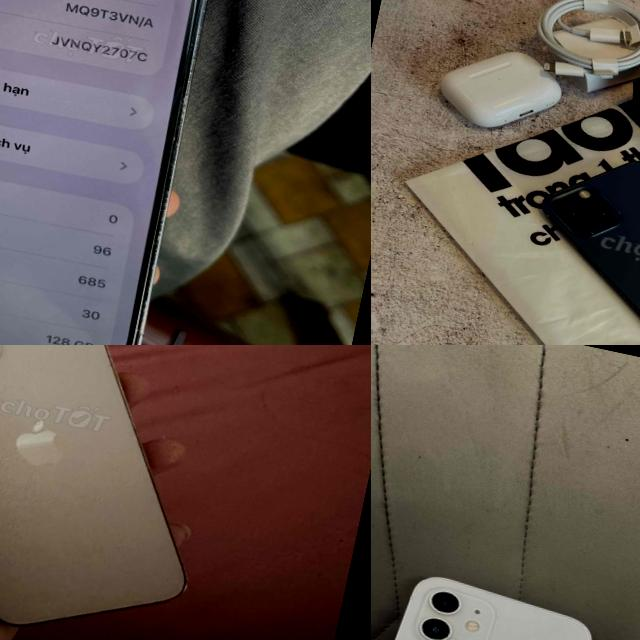gen_12_13: (0, 345, 249, 640), (506, 139, 640, 345), (371, 554, 605, 640)
gen_14: (0, 0, 265, 345)
